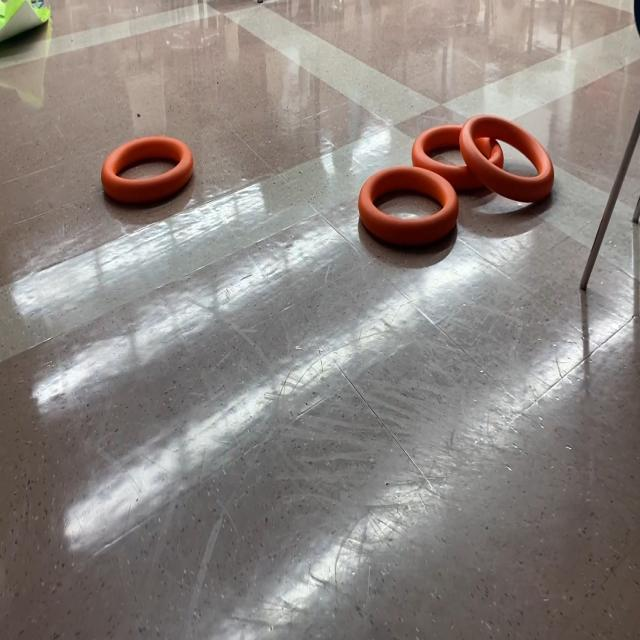note: (457, 115, 557, 208), (356, 165, 458, 251), (412, 123, 504, 198), (101, 133, 193, 206)
